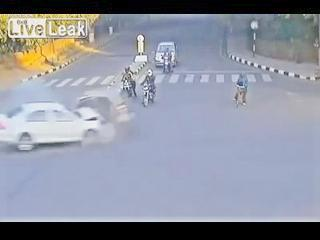Car: (1, 104, 116, 151), (76, 92, 133, 126), (157, 42, 176, 67)
Major Accident: (1, 91, 133, 152)
Motor: (140, 68, 158, 108), (120, 65, 137, 99), (160, 47, 173, 72)
Not Accident: (155, 40, 178, 72)
